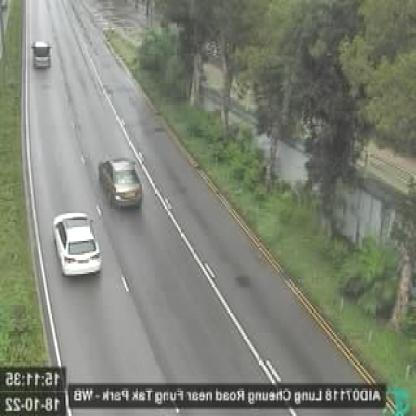Car: (50, 209, 102, 280), (97, 157, 144, 211), (31, 40, 50, 72)
